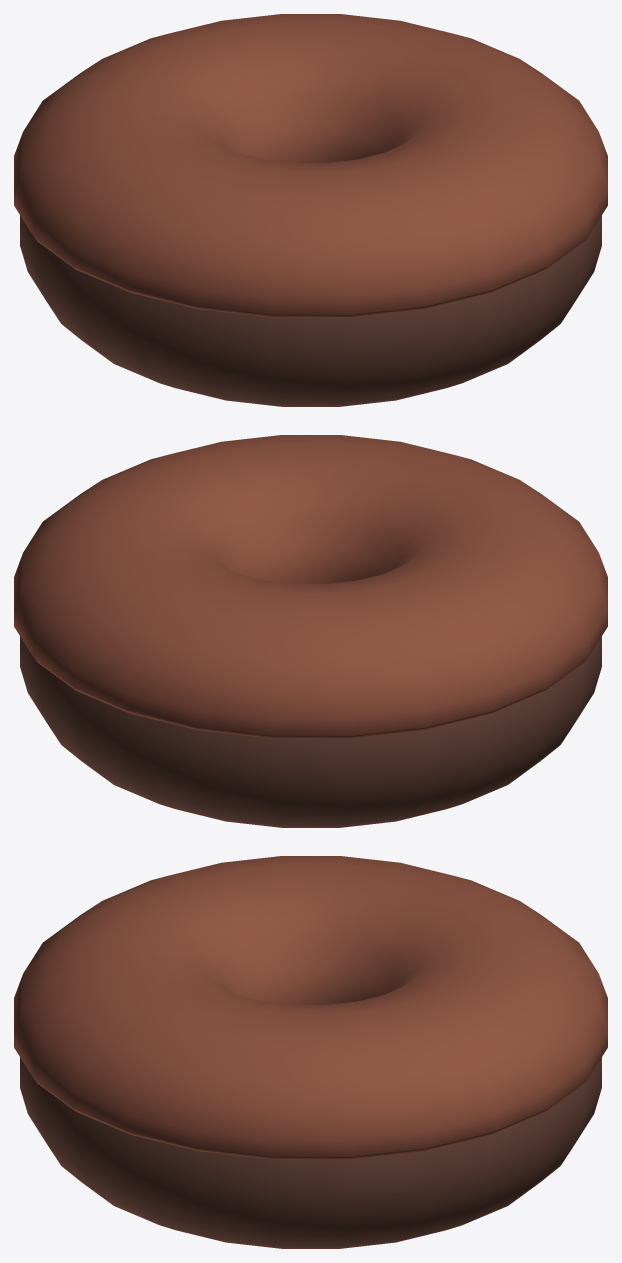
The model's file is donut_04.fbx.
The picture shows the model from 3 angles, top to bottom: view 1: azimuth 30°, elevation 25°; view 2: azimuth 150°, elevation 25°; view 3: azimuth 270°, elevation 25°; orthographic projection.
Parts seen in each view (by area): view 1: donut_04; view 2: donut_04; view 3: donut_04.
Part boxes in pixels (box(x1,y1,x2,y2)): donut_04: box(14, 14, 607, 406); donut_04: box(14, 435, 607, 827); donut_04: box(14, 856, 607, 1248).
Bounding box in the file's own units: 1716 × 688 × 1716.
